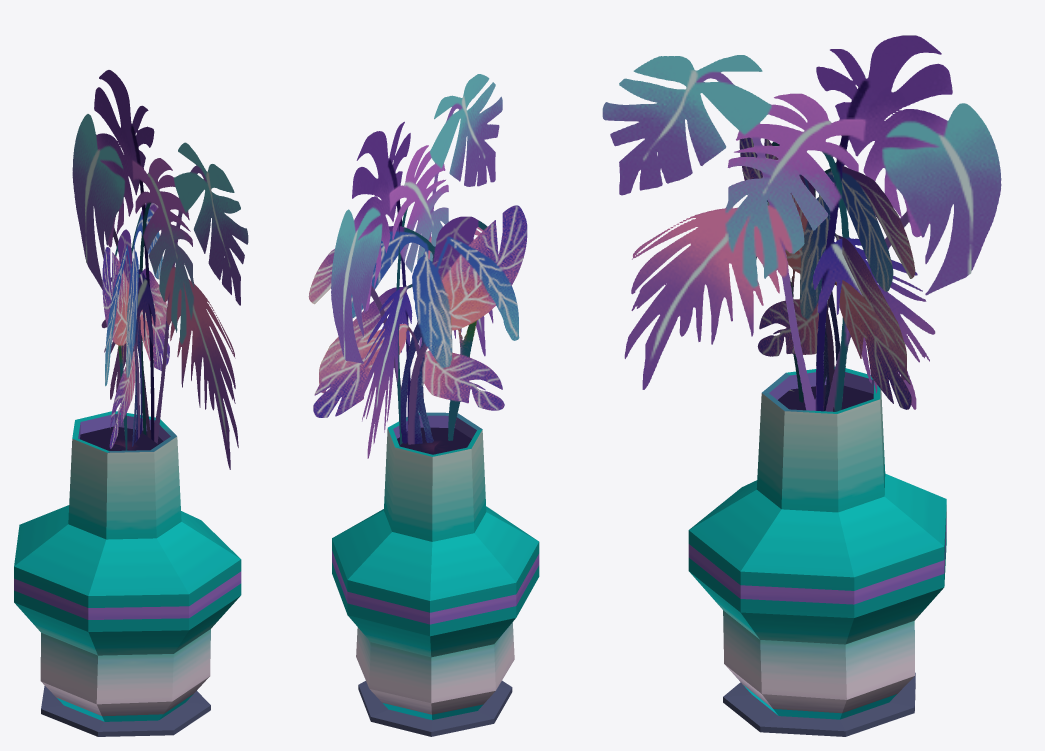
File: Structure_Vapor_Pot_03_Art.fbx
3 renders of one model, left to right at view 1: azimuth 30°, elevation 25°; view 2: azimuth 150°, elevation 25°; view 3: azimuth 270°, elevation 25°, orthographic. The views are drawn at different scales.
Parts seen in each view (by area): view 1: Structure_Vapor_Pot_03_Art, Structure_Vapor_Plants_03, Structure_Vapor_Plants_04; view 2: Structure_Vapor_Pot_03_Art, Structure_Vapor_Plants_03, Structure_Vapor_Plants_04; view 3: Structure_Vapor_Plants_03, Structure_Vapor_Pot_03_Art, Structure_Vapor_Plants_04.
Part boxes in pixels (bbox=[...]): Structure_Vapor_Pot_03_Art: bbox=[14, 411, 241, 736]; Structure_Vapor_Plants_03: bbox=[72, 70, 248, 469]; Structure_Vapor_Plants_04: bbox=[73, 70, 247, 461]; Structure_Vapor_Pot_03_Art: bbox=[332, 412, 539, 736]; Structure_Vapor_Plants_03: bbox=[309, 74, 527, 458]; Structure_Vapor_Plants_04: bbox=[308, 74, 526, 444]; Structure_Vapor_Plants_03: bbox=[602, 35, 1001, 411]; Structure_Vapor_Pot_03_Art: bbox=[688, 367, 946, 736]; Structure_Vapor_Plants_04: bbox=[603, 36, 999, 411].
Size of the model in its own units: 151 by 443 by 255.
